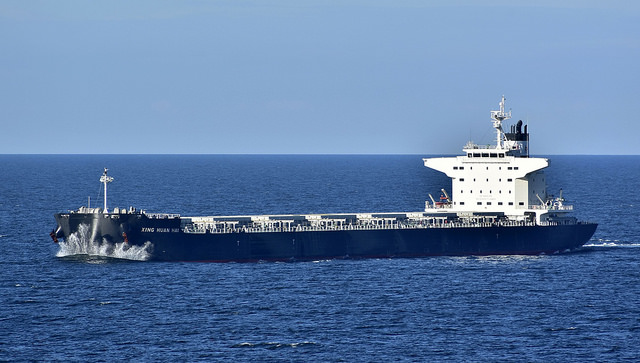bulk carrier: (52, 95, 598, 259)
